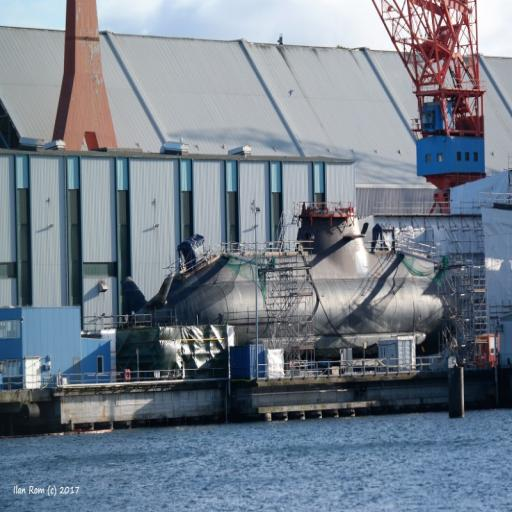submarine: (139, 212, 453, 334)
